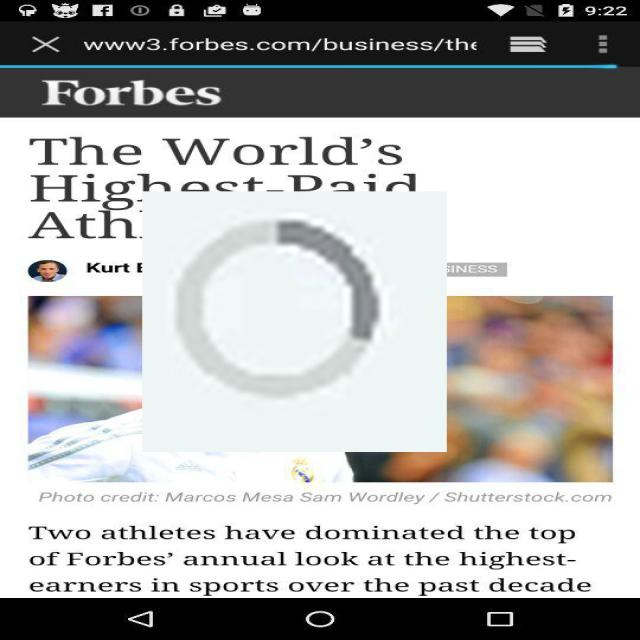misdirection: (142, 191, 447, 452)
